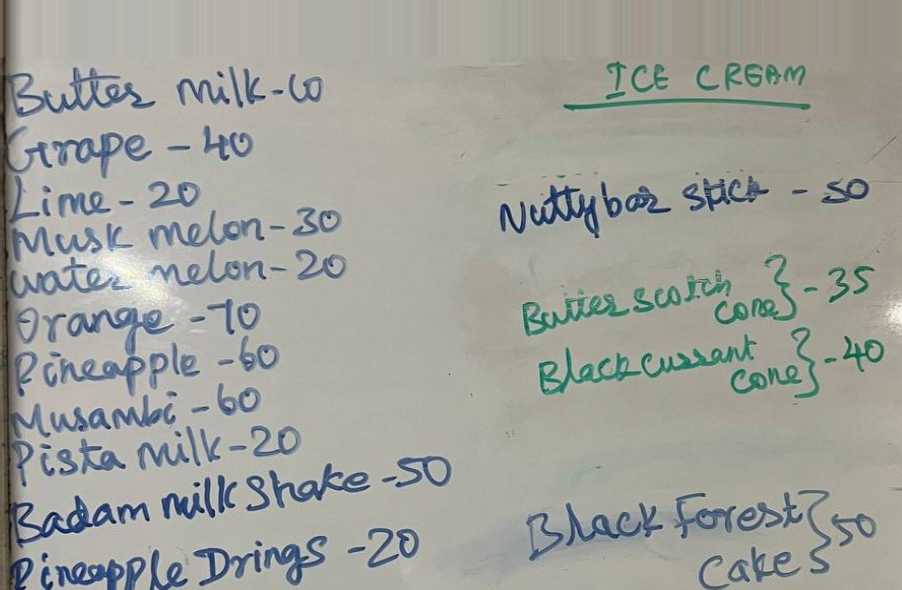badam milkshake - 50: (13, 466, 368, 552)
black current cone - 40: (538, 326, 889, 408)
black forest cake - 50: (518, 485, 884, 590)
butter milk - 10: (3, 62, 326, 119)
butterscotch cone - 35: (519, 254, 879, 341)
grape - 40: (1, 116, 264, 176)
lime - 20: (1, 170, 204, 220)
musambi - 60: (7, 380, 263, 439)
musk melon - 30: (1, 217, 344, 251)
nutty bar - 30: (497, 166, 873, 245)
orange - 70: (10, 298, 269, 351)
pineapple - 60: (11, 337, 284, 387)
pineapple drink - 20: (1, 538, 435, 588)
pista milk - 20: (9, 430, 299, 490)
water melon - 20: (3, 254, 357, 301)
